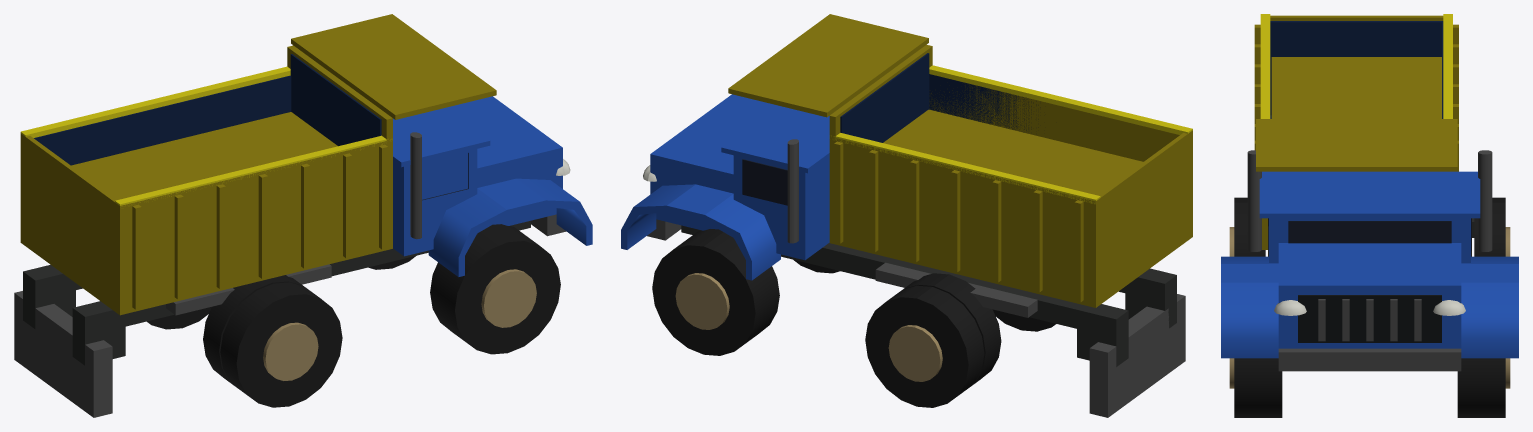
File: truck.glb
3 views of the same model, side by side, from view 1: azimuth 30°, elevation 25°; view 2: azimuth 150°, elevation 25°; view 3: azimuth 270°, elevation 25° (orthographic). The views are drawn at different scales.
Visible parts, largest first — view 1: caja, truck, carga; view 2: caja, truck, carga; view 3: truck, caja, carga.
Part boxes in pixels (x1,y1,x2,y2): caja: (20, 14, 496, 315); truck: (14, 96, 592, 417); carga: (71, 112, 337, 199); caja: (728, 14, 1192, 307); truck: (621, 94, 1185, 417); carga: (883, 109, 1142, 195); truck: (1221, 150, 1518, 417); caja: (1254, 14, 1458, 249); carga: (1271, 57, 1441, 118).
Size of the model in its own units: 3.03 by 1.56 by 1.71.
